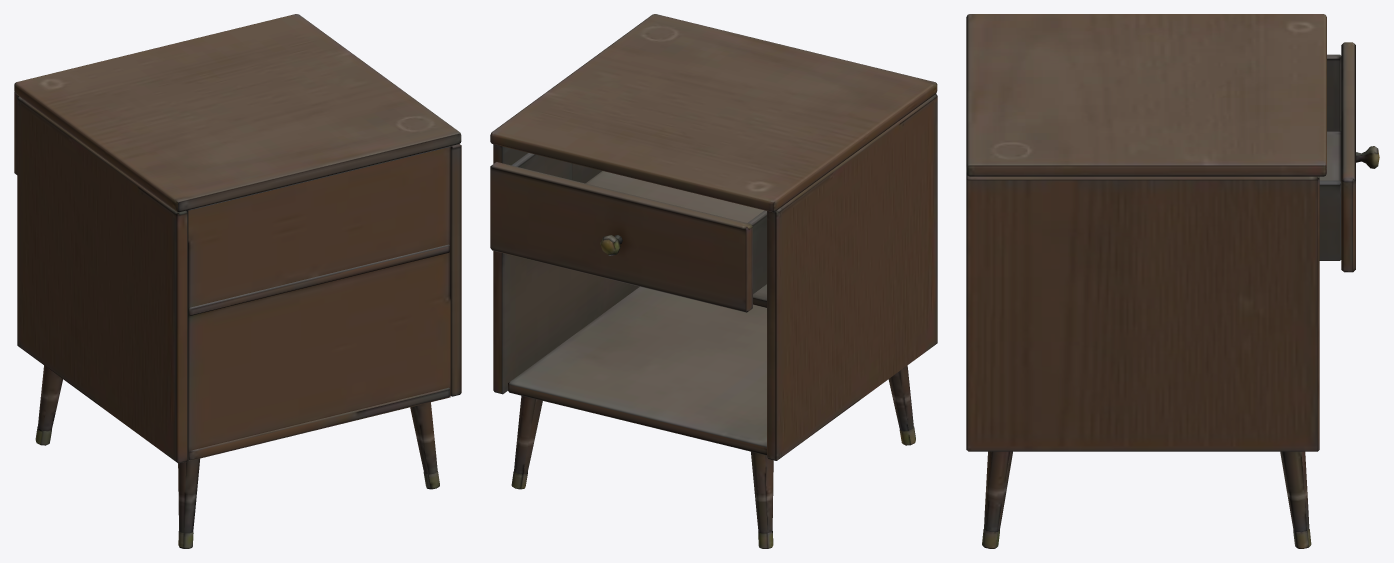
File: furniture_nightstand.glb
The picture shows the model from 3 angles, left to right: view 1: azimuth 30°, elevation 25°; view 2: azimuth 150°, elevation 25°; view 3: azimuth 270°, elevation 25°; orthographic projection. The views are drawn at different scales.
Parts seen in each view (by area): view 1: furniture_nightstand; view 2: furniture_nightstand; view 3: furniture_nightstand.
Boxes of the visible parts, left/top/right/bottom form: furniture_nightstand: left=14, top=14, right=461, bottom=548; furniture_nightstand: left=490, top=14, right=937, bottom=548; furniture_nightstand: left=966, top=14, right=1379, bottom=548.
Bounding box in the file's own units: 0.5 × 0.6006 × 0.573.
Materials: 1 (1 with a texture image).
